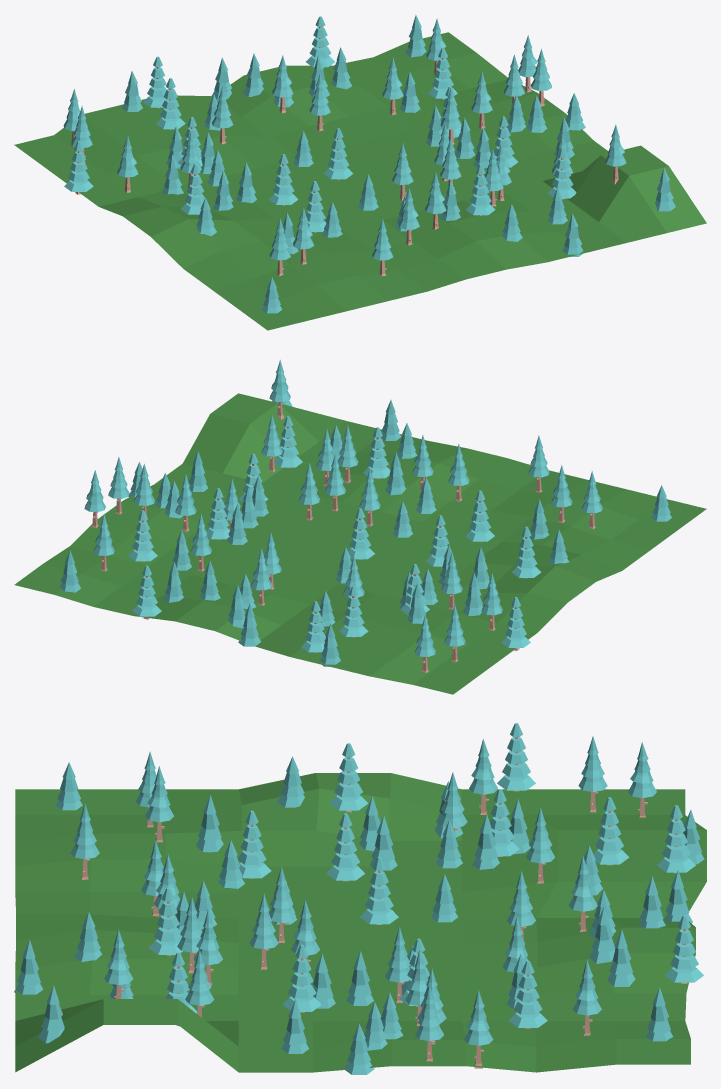
File: garden.glb
The picture shows the model from 3 angles, top to bottom: view 1: azimuth 30°, elevation 25°; view 2: azimuth 150°, elevation 25°; view 3: azimuth 270°, elevation 25°; orthographic projection. The views are drawn at different scales.
Parts seen in each view (by area): view 1: Plane; view 2: Plane; view 3: Plane.
Boxes of the visible parts, x1=… form: Plane: x1=14, y1=15, x2=706, y2=330; Plane: x1=14, y1=360, x2=706, y2=694; Plane: x1=14, y1=723, x2=706, y2=1074.
Bounding box in the file's own units: 25.05 × 4.49 × 24.97.
